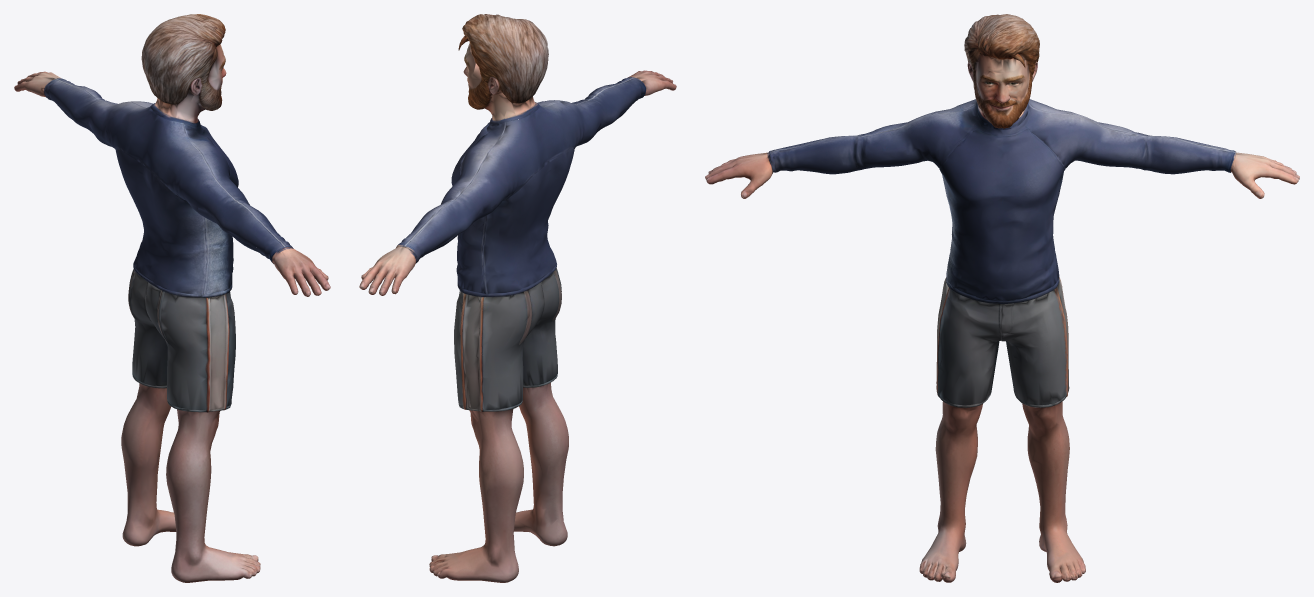
File: the-nomad.glb
3 renders of one model, left to right at view 1: azimuth 30°, elevation 25°; view 2: azimuth 150°, elevation 25°; view 3: azimuth 270°, elevation 25°, orthographic.
Parts seen in each view (by area): view 1: the-nomad; view 2: the-nomad; view 3: the-nomad.
Boxes of the visible parts, left/top/right/bottom form: the-nomad: left=14, top=14, right=330, bottom=582; the-nomad: left=359, top=14, right=676, bottom=582; the-nomad: left=705, top=14, right=1299, bottom=582.
Bounding box in the file's own units: 0.1779 × 0.9797 × 0.9712.
1 material, 1 textured.
